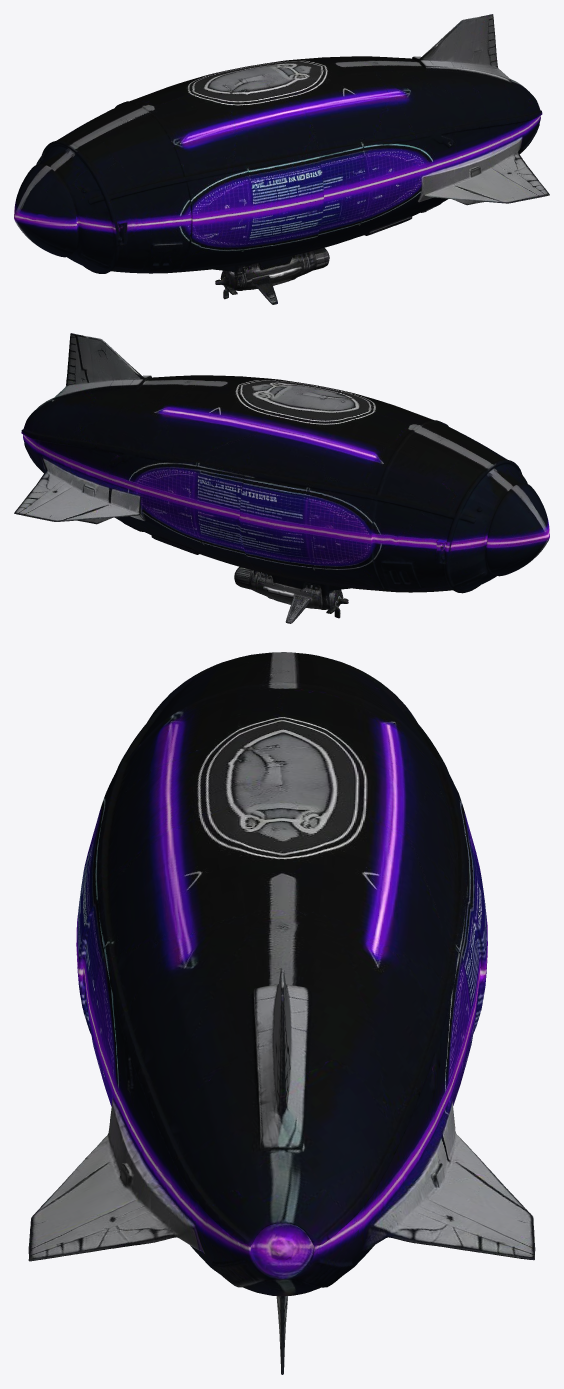
The model's file is b2_business_ship_rt.glb.
3 renders of one model, top to bottom at view 1: azimuth 30°, elevation 25°; view 2: azimuth 150°, elevation 25°; view 3: azimuth 270°, elevation 25°, orthographic. The views are drawn at different scales.
Size of the model in its own units: 1.9 by 0.7729 by 0.803.
1 material, 1 textured.
